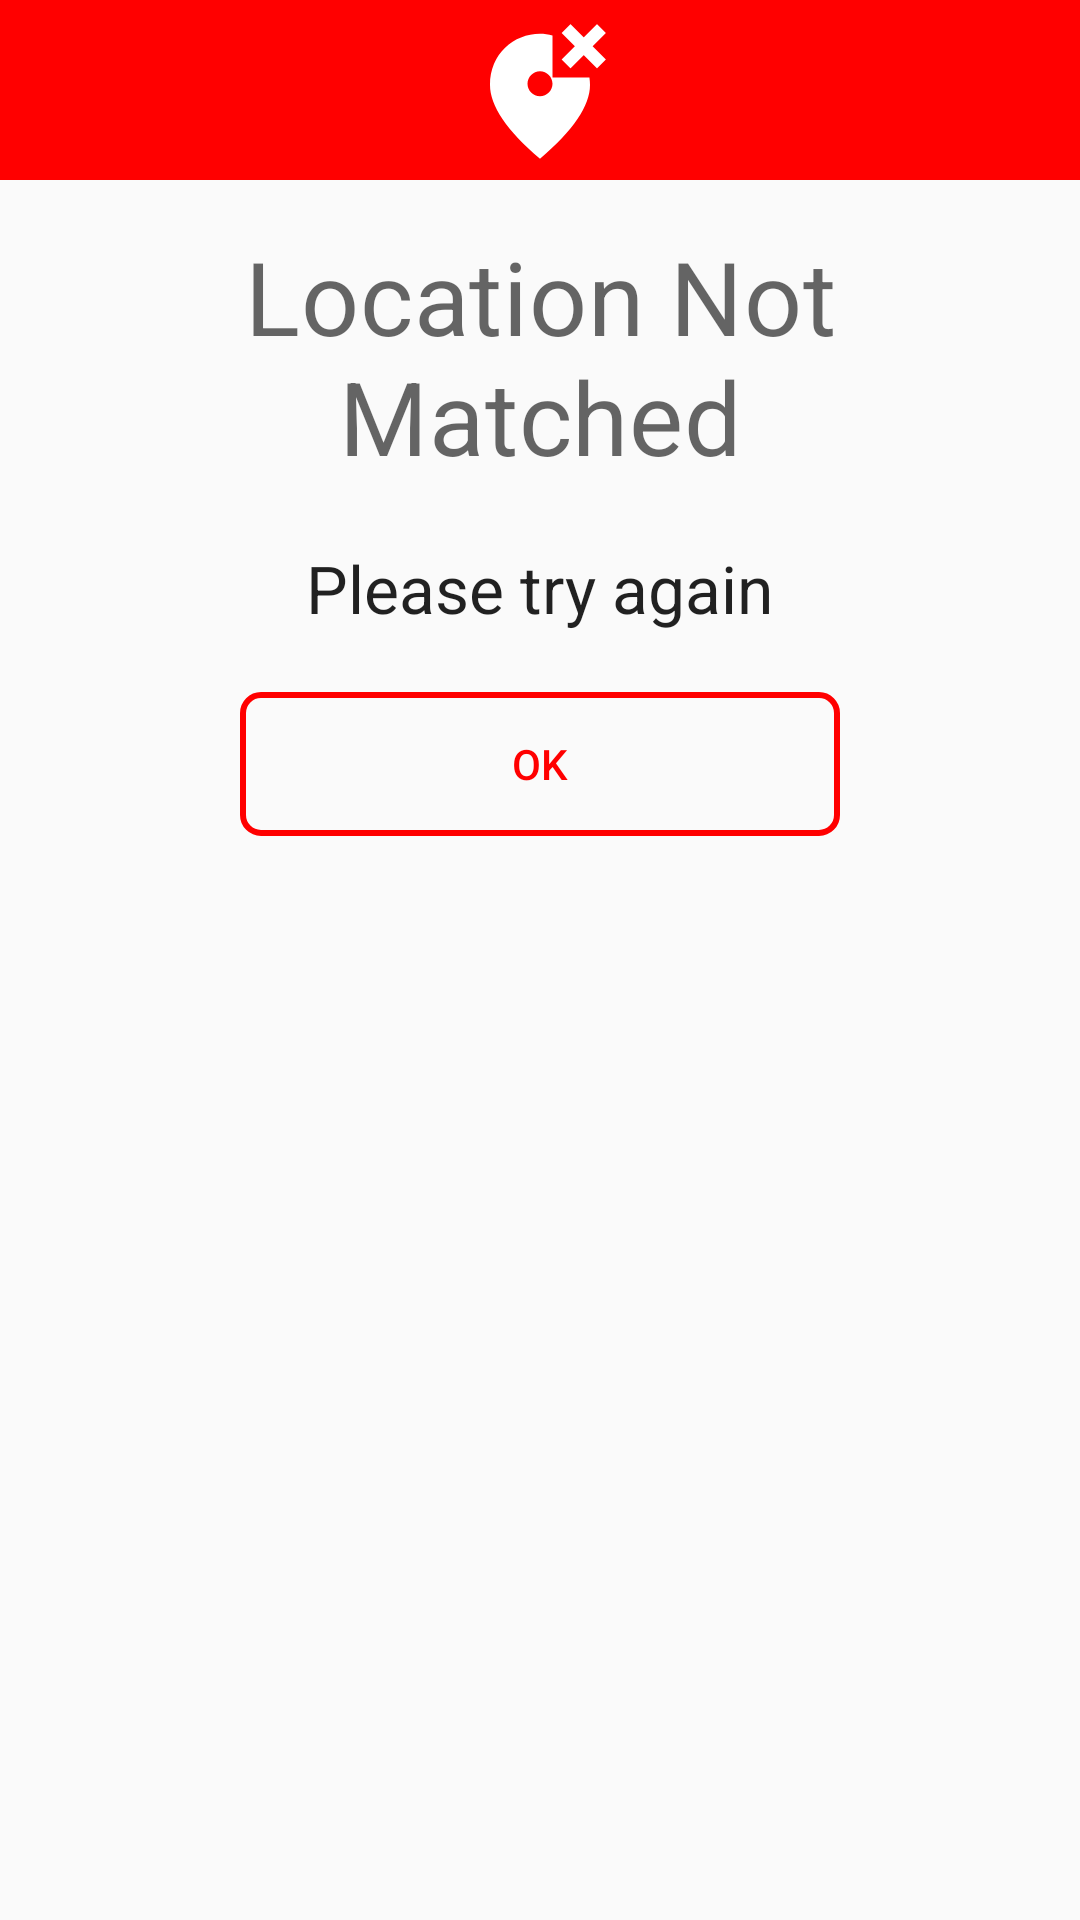

Where to tap for icons on this 1080*1920 app screen, as (x=x, y=y):
wrong location: (x=548, y=91)
